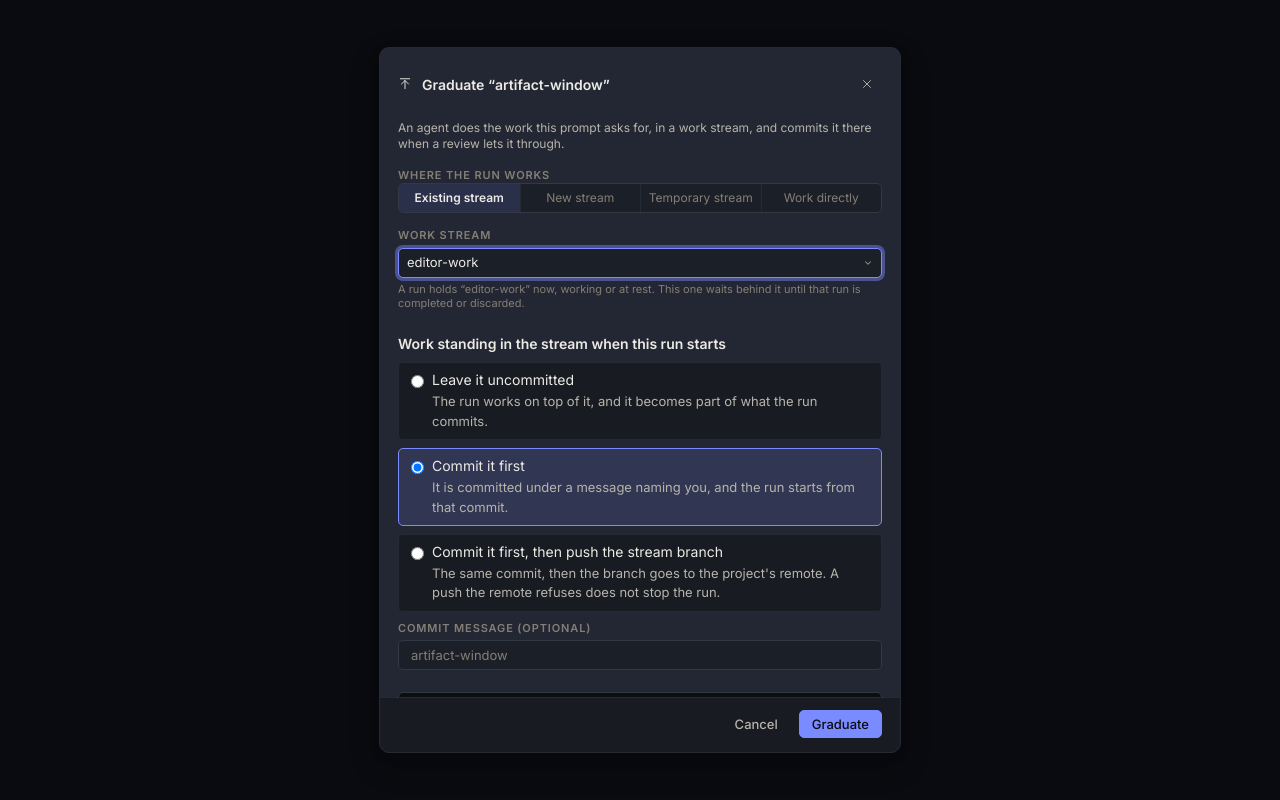
Scenario: the message a commit takes › GSD-FR-MZTB: a choice that commits nothing is asked for no message
The width and height of the screenshot is (1280, 800).
Expected: the dropdown labelled "Work stream" is shown, [398,248,882,278]
What coordinates should you click on to do the following:
click the 5th radio button
I would click on:
 (418, 381)
Its box is [411,375,424,388].
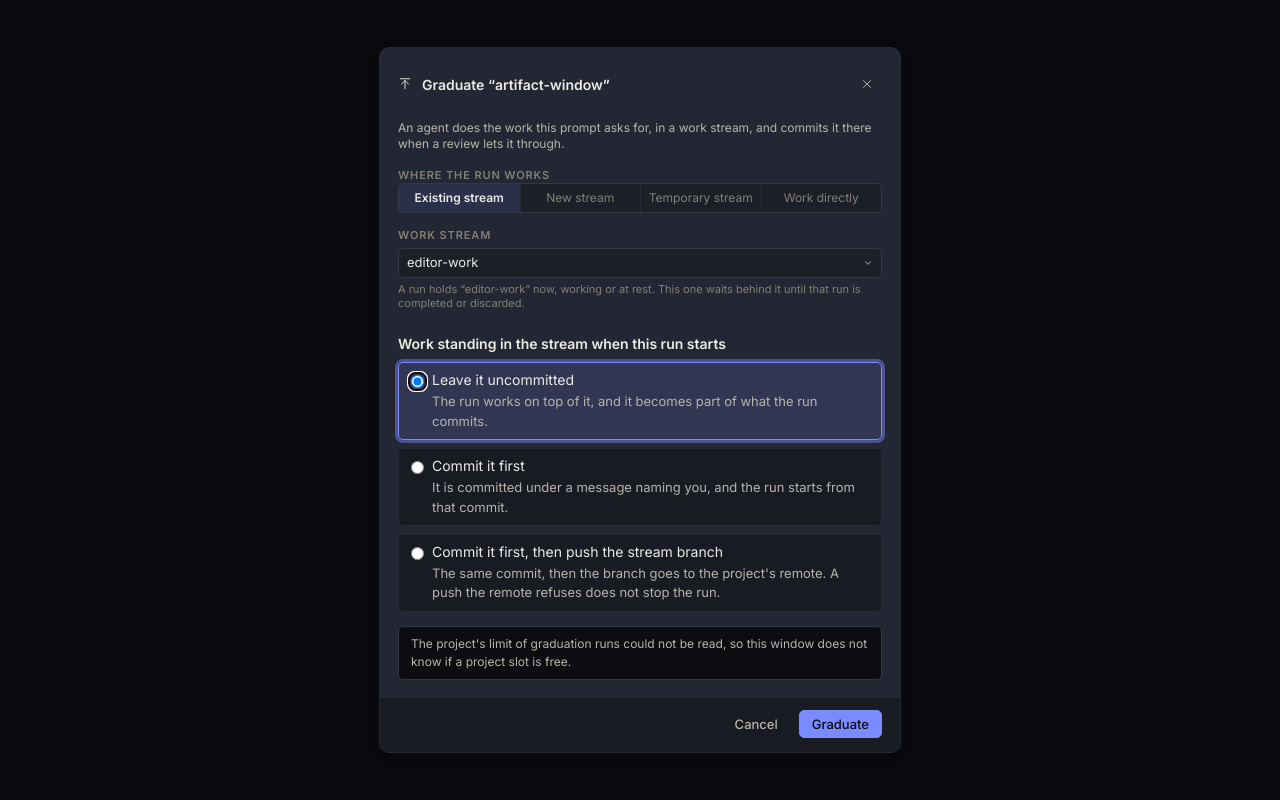
Now the element with test id "standing-work-message" is gone
// And the two positions that do commit ask for one.
What coordinates should you click on to do the following:
click the 7th radio button
I would click on:
 (418, 553)
Its box is [411,547,424,560].
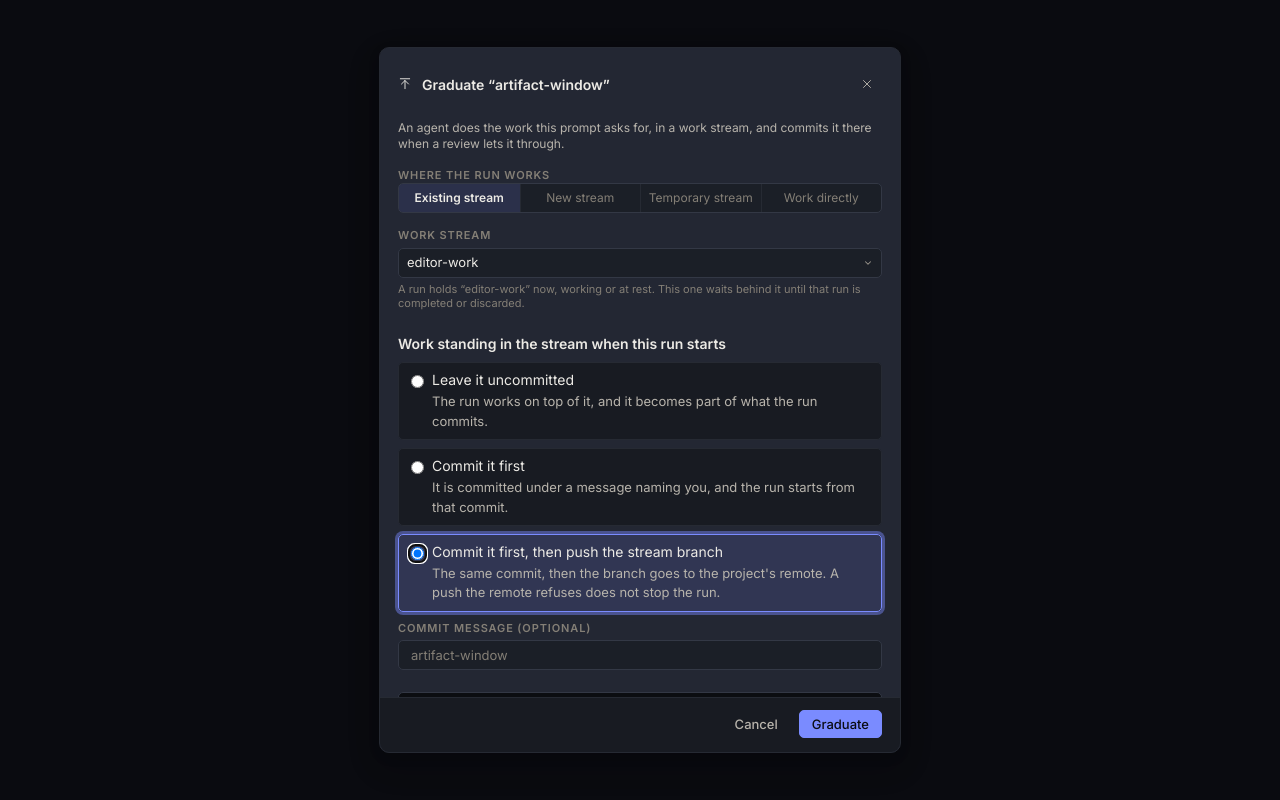
Now the field labelled "Commit message (optional)" is shown, box [398,640,882,670]
